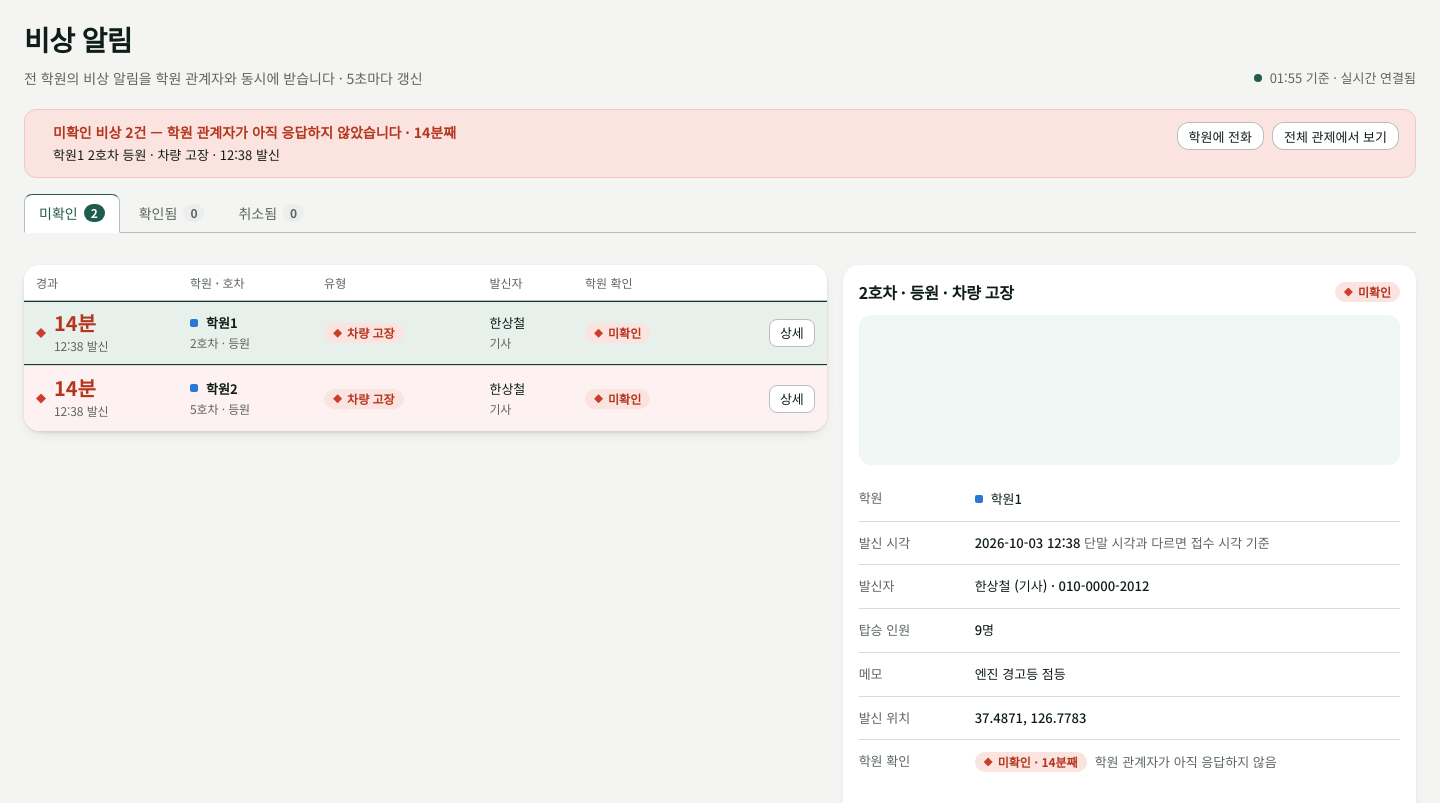
it: EmergencyAlertsPage — 탭 · 띠 · 상시 칸 › 행의 상세를 누르면 오른쪽 칸이 그 비상으로 바뀐다
The width and height of the screenshot is (1440, 803).
Expected: the heading "2호차 · 등원 · 차량 고장" is shown, [859, 281, 1014, 303]
Click the button with aria-label "학원2 5호차 상세" at [792, 399], box [769, 385, 815, 413]
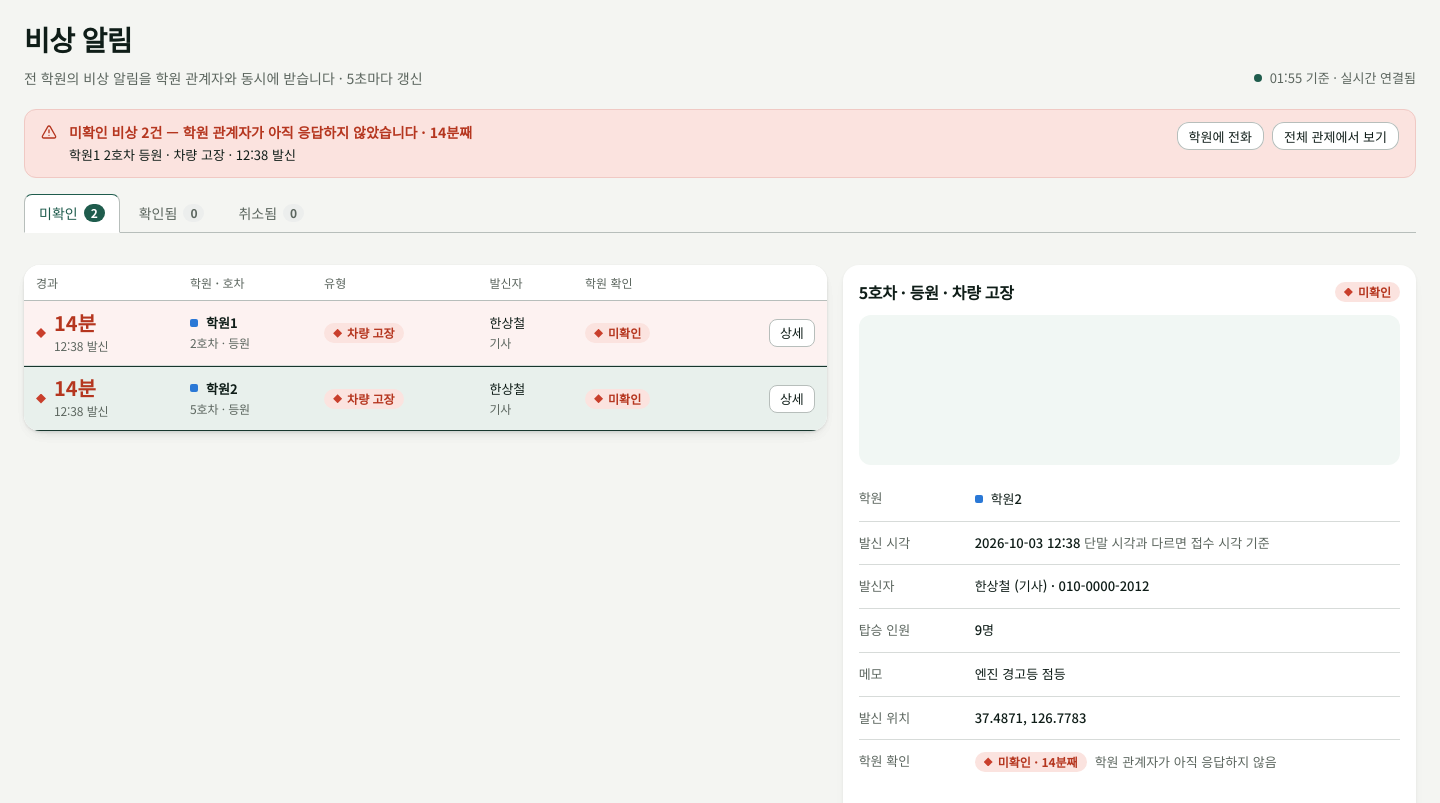
Now the heading "5호차 · 등원 · 차량 고장" is shown, box [859, 281, 1014, 303]
